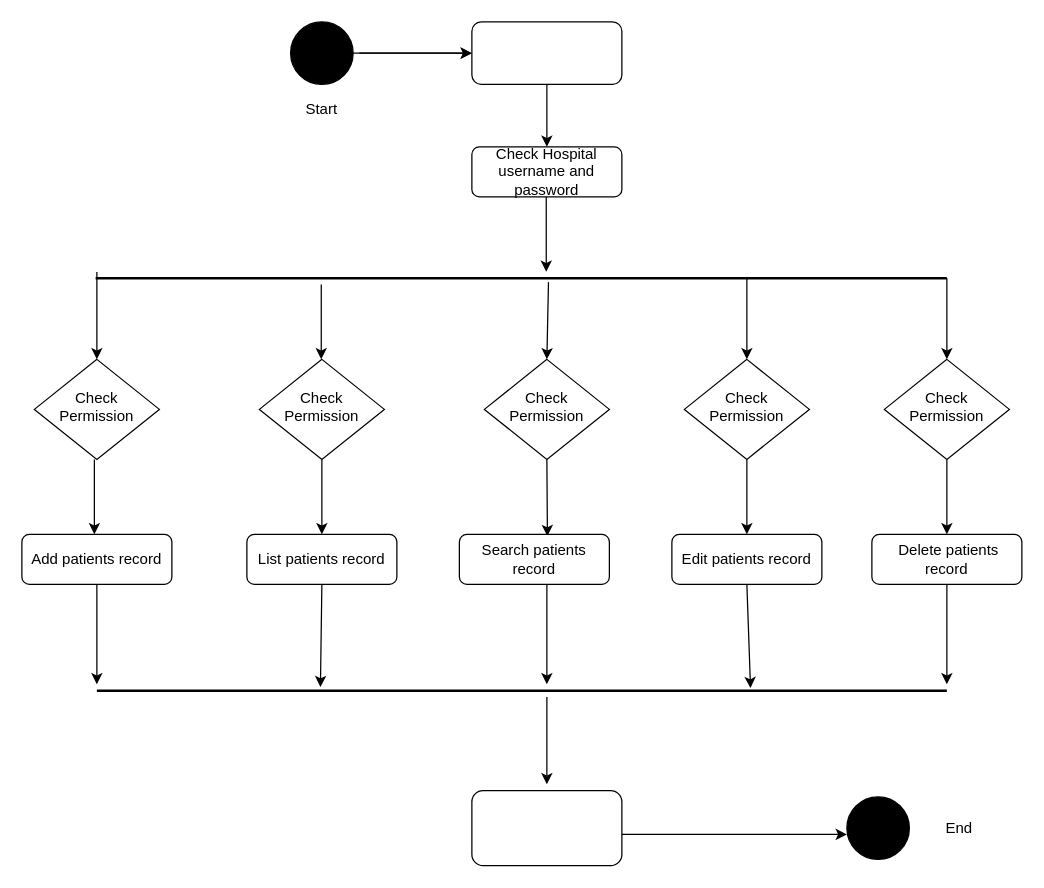
This 1044x888 diagram has some shape labels left out. Here are the shapes that lost their labels. From the top down, the box of each, then its label:
(471, 21, 622, 84): Login to the PK Hospital Management System
(471, 789, 622, 866): Exit from the system
